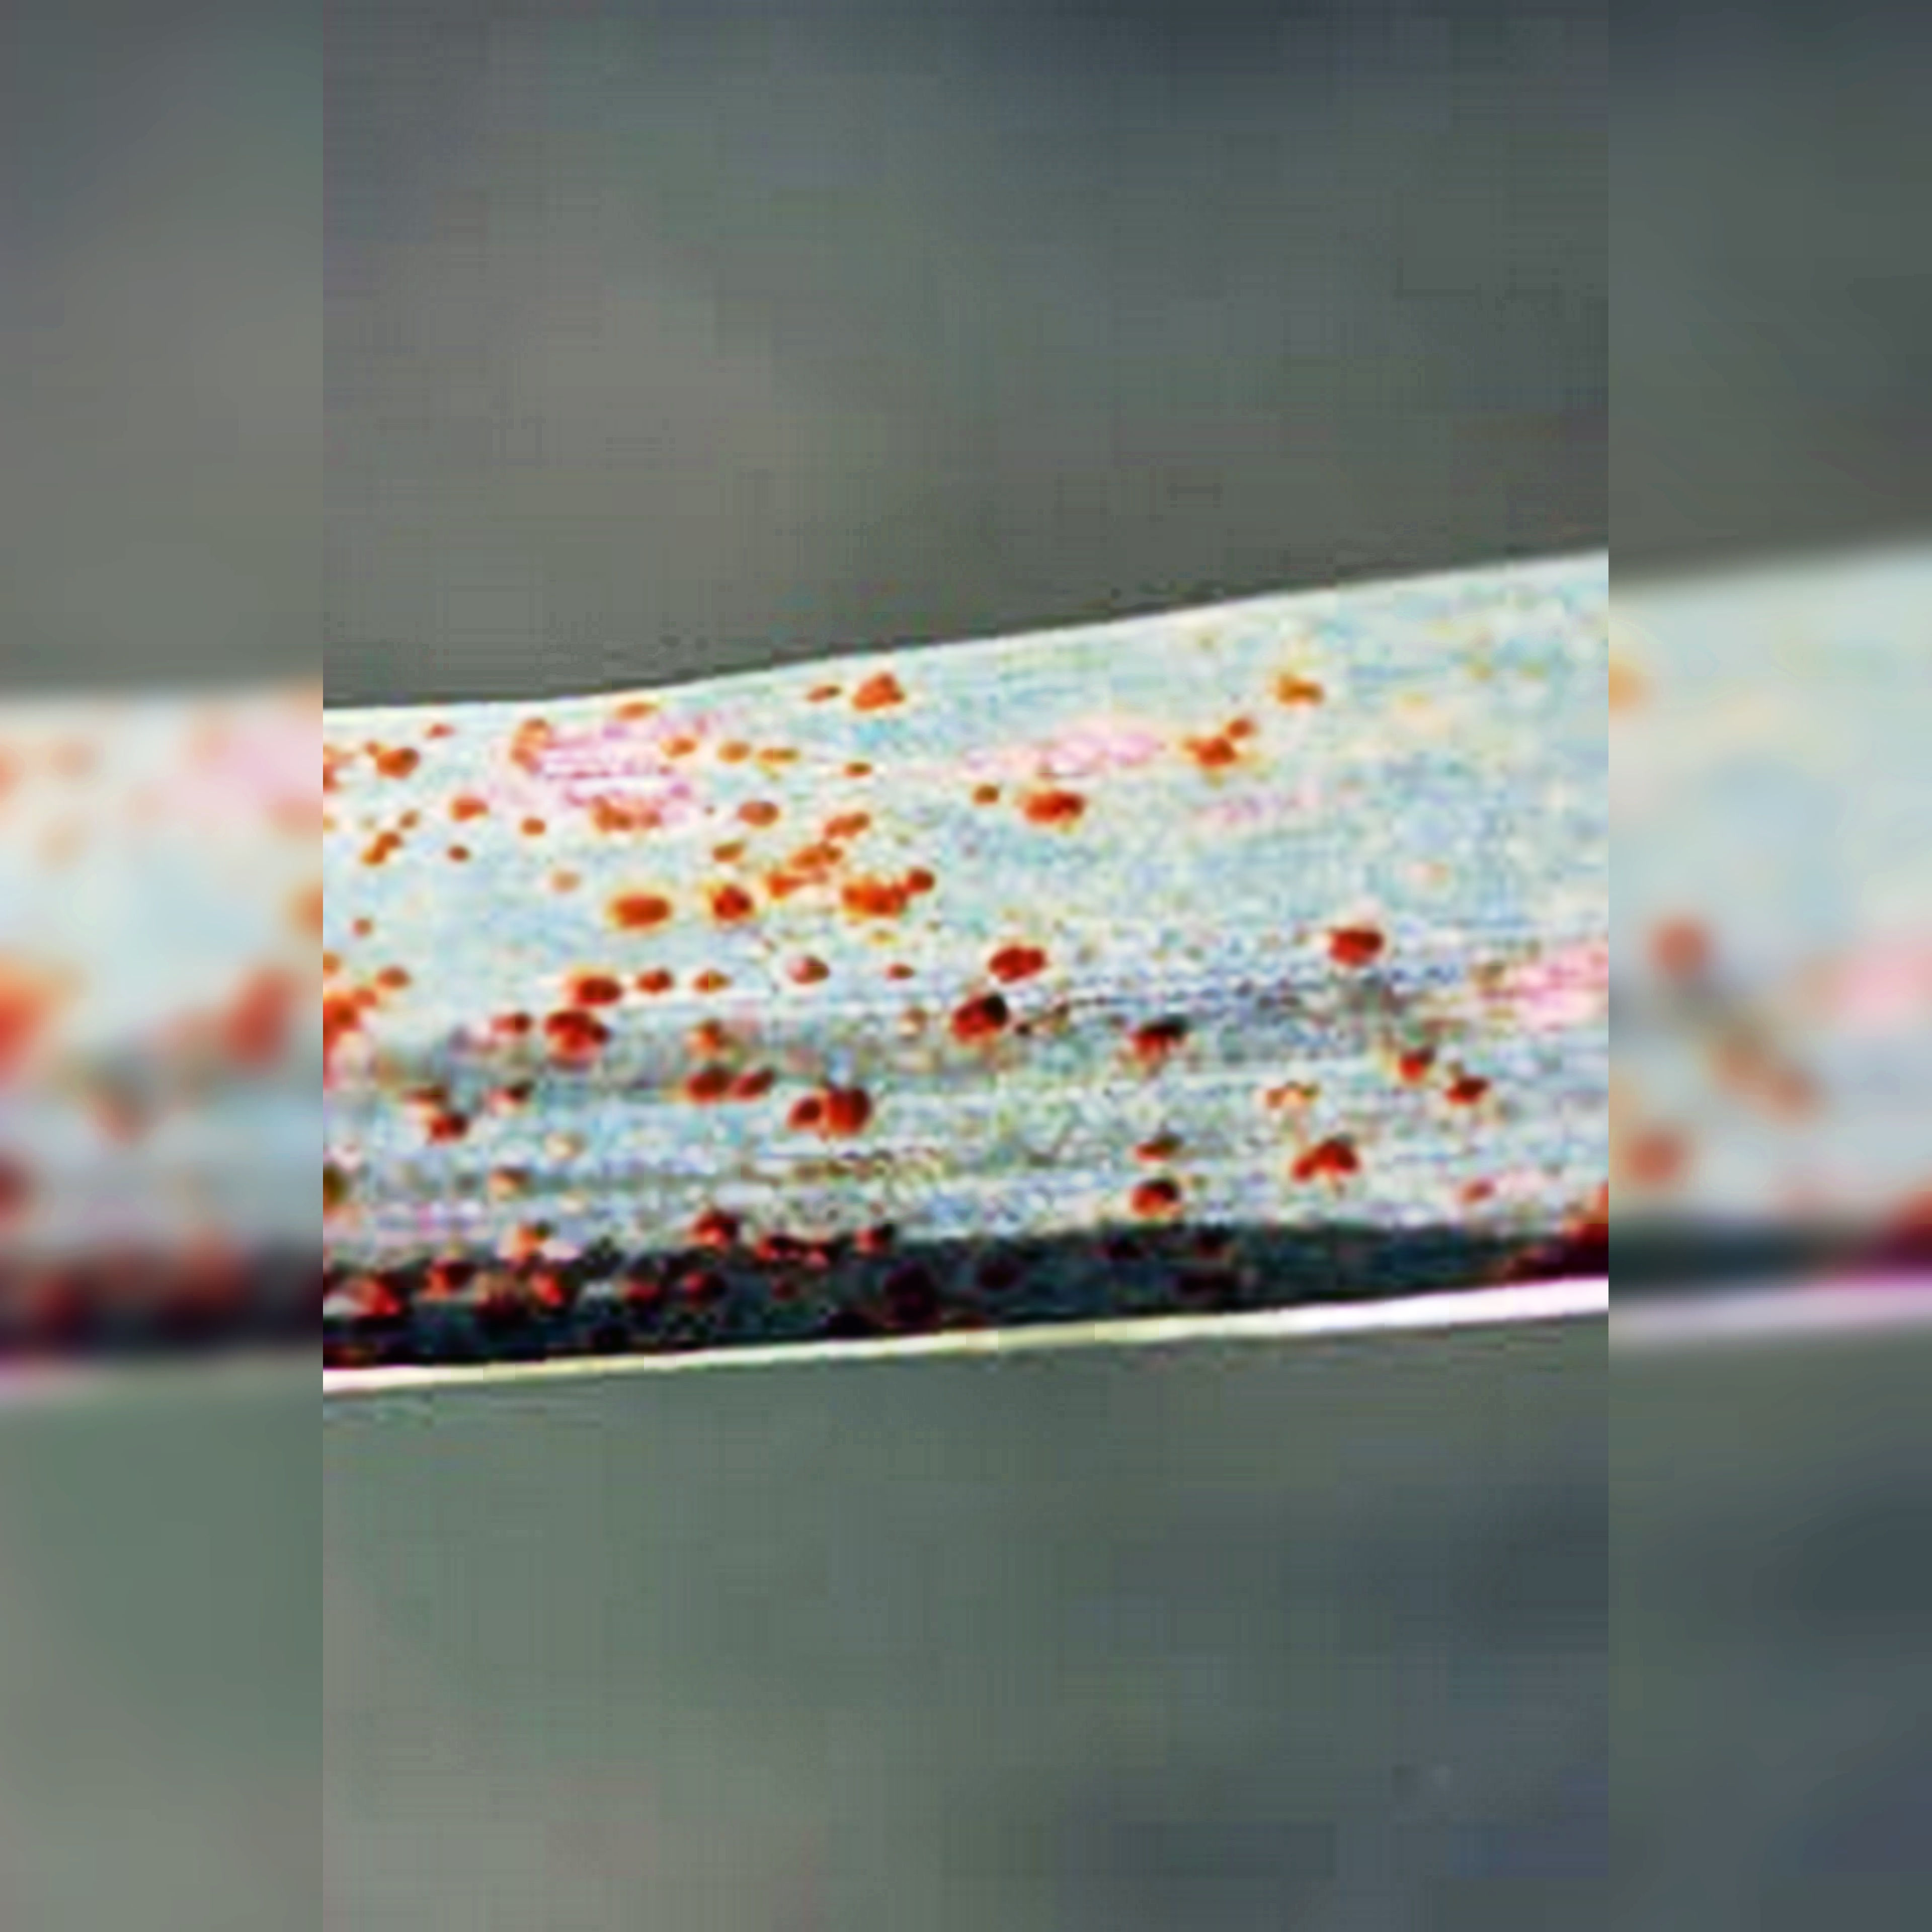Leaf Rust: (313, 646, 1504, 1272)
